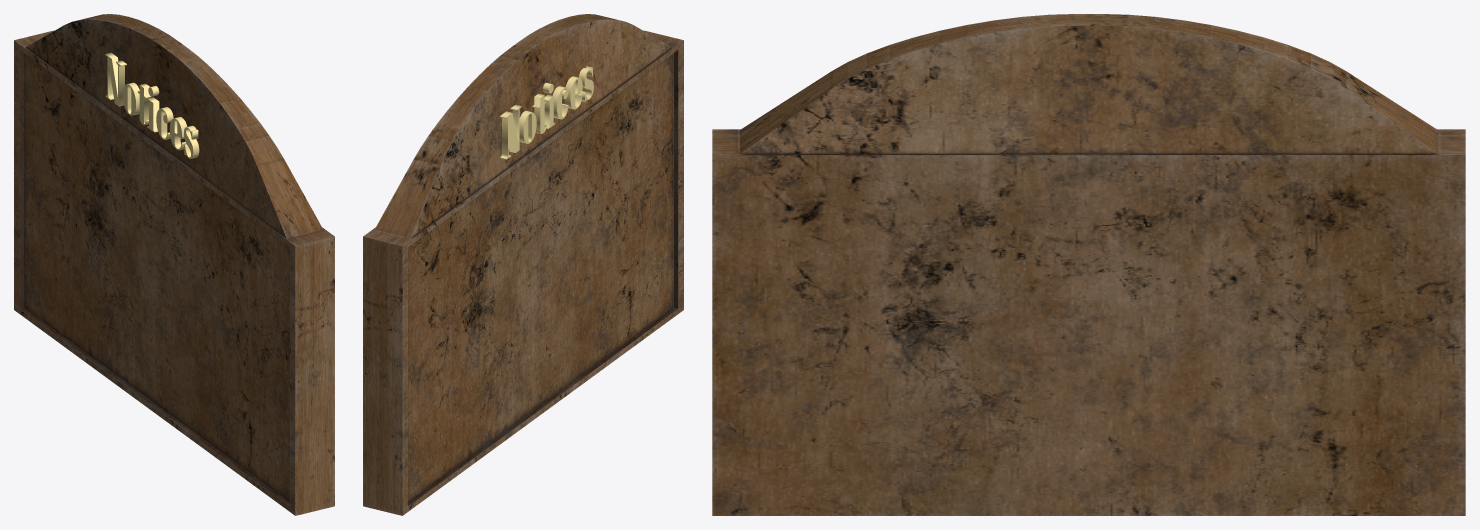
The model's file is NoticeBoard.fbx.
3 views of the same model, side by side, from view 1: azimuth 30°, elevation 25°; view 2: azimuth 150°, elevation 25°; view 3: azimuth 270°, elevation 25° (orthographic). The views are drawn at different scales.
Parts seen in each view (by area): view 1: NoticeBoard; view 2: NoticeBoard; view 3: NoticeBoard.
Boxes of the visible parts, left/top/right/bottom form: NoticeBoard: left=14, top=14, right=334, bottom=515; NoticeBoard: left=363, top=14, right=683, bottom=515; NoticeBoard: left=712, top=14, right=1465, bottom=515.
Size of the model in its own units: 16.78 by 127 by 179.
2 materials, 1 textured.
